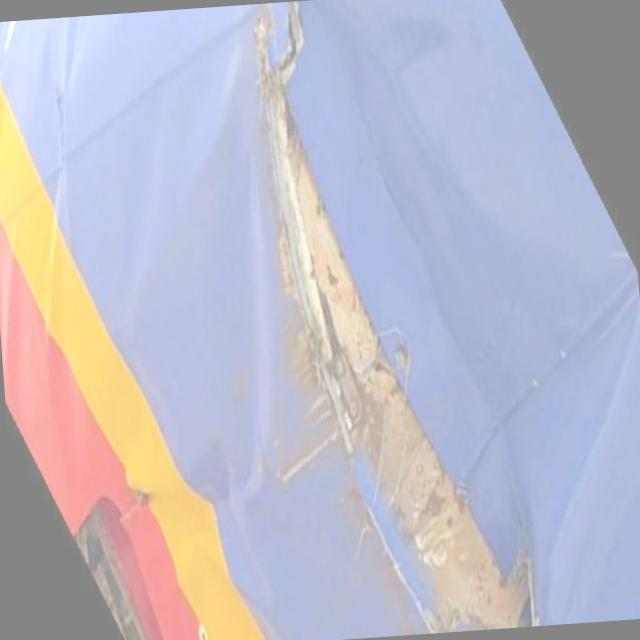crack: (240, 0, 538, 640)
